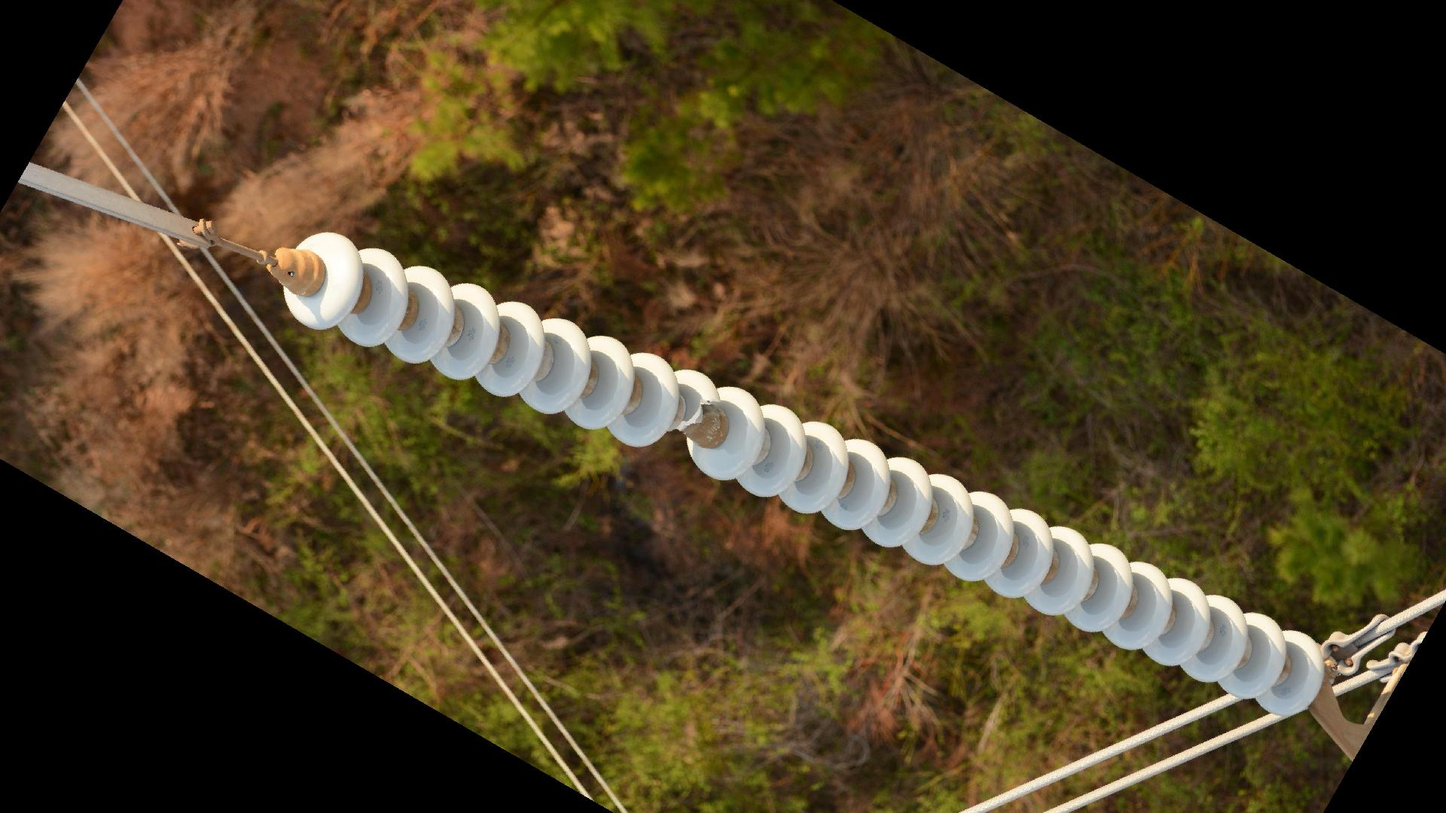insulator: (272, 226, 1333, 723)
insulator_breakage: (668, 391, 726, 438)
